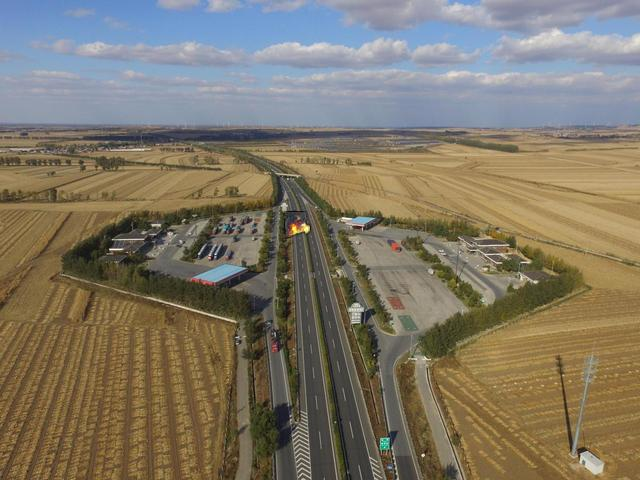fire: (285, 212, 309, 236)
